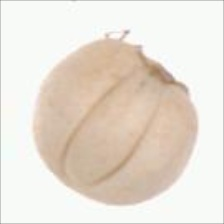L5: (64, 68, 161, 195), (129, 38, 189, 90), (42, 163, 103, 202)
L6: (33, 36, 201, 207)
